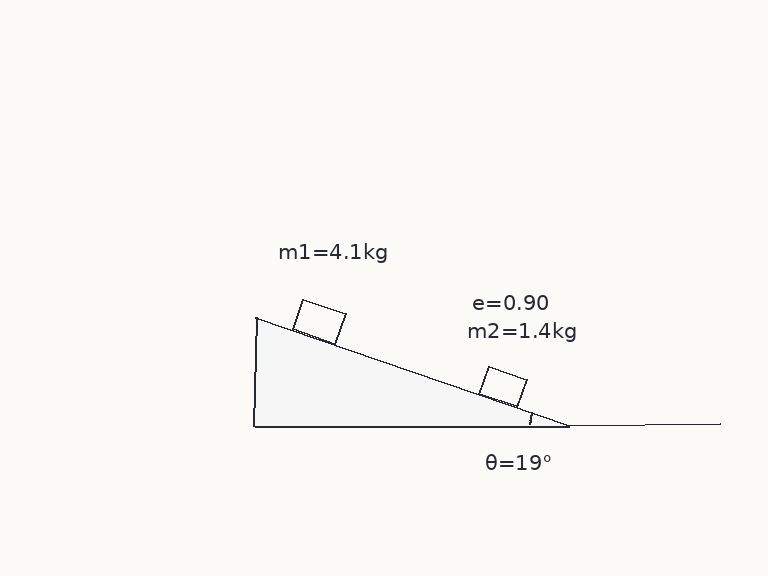block: (291, 297, 347, 346), (477, 364, 528, 409)
ramp: (253, 315, 572, 427)
